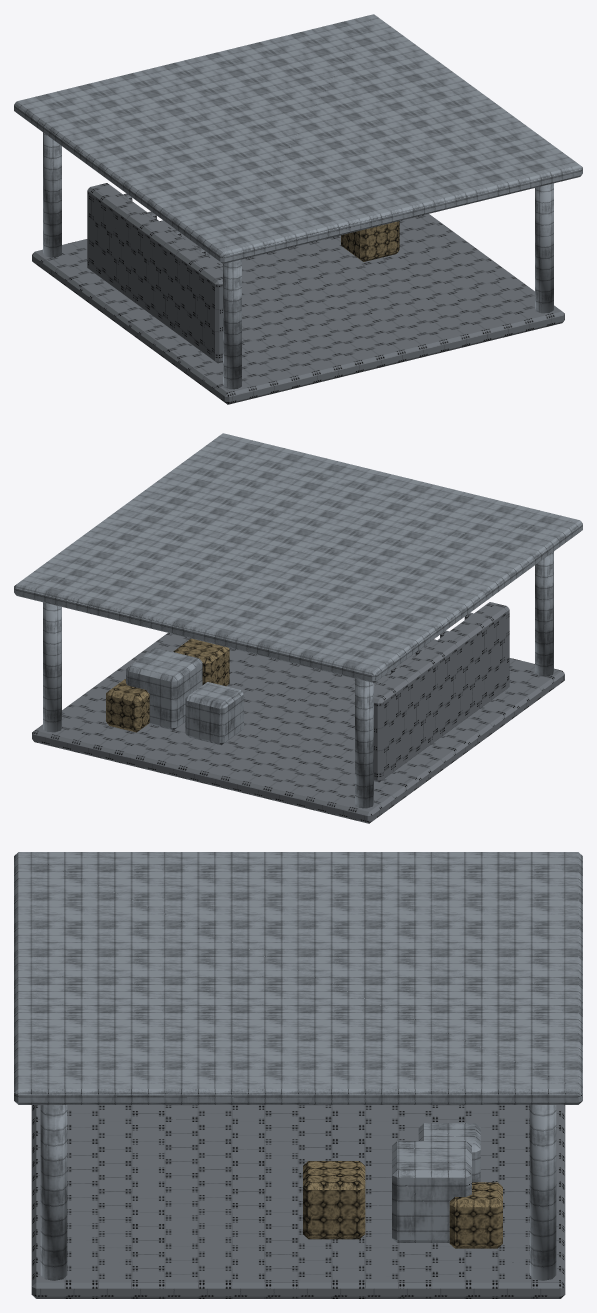
File: armory.glb
3 renders of one model, top to bottom at view 1: azimuth 30°, elevation 25°; view 2: azimuth 150°, elevation 25°; view 3: azimuth 270°, elevation 25°, orthographic. The views are drawn at different scales.
Visible parts, largest first — view 1: roof, floor, rack, post-55-55, post55-55, post-5555, crate1; view 2: roof, floor, rack, crate0, crate2, post-5555, post5555, post-55-55, crate3, crate1; view 3: roof, floor, crate0, crate1, post55-55, post5555, crate3, crate2.
Part boxes in pixels (x1,y1,x2,y2): roof: (14,14,582,263); floor: (32,214,564,404); rack: (87,183,222,363); post-55-55: (223,259,241,389); post55-55: (535,183,553,313); post-5555: (43,132,61,257); crate1: (341,221,399,261); roof: (14,433,582,682); floor: (32,633,564,823); rack: (374,602,509,782); crate0: (126,647,202,730); crate2: (185,682,243,745); post-5555: (355,678,373,808); post5555: (43,602,61,732); post-55-55: (535,551,553,676); crate3: (106,679,149,732); crate1: (173,638,229,686); roof: (14,852,582,1104); floor: (31,1105,565,1298); crate0: (392,1141,471,1242); crate1: (303,1161,365,1239); post55-55: (40,1105,67,1280); post5555: (529,1105,556,1280); crate3: (449,1182,502,1248); crate2: (418,1123,480,1182).
Bounding box in the file's own units: 128 × 54 × 128.
Materials: 3 (3 with a texture image).
